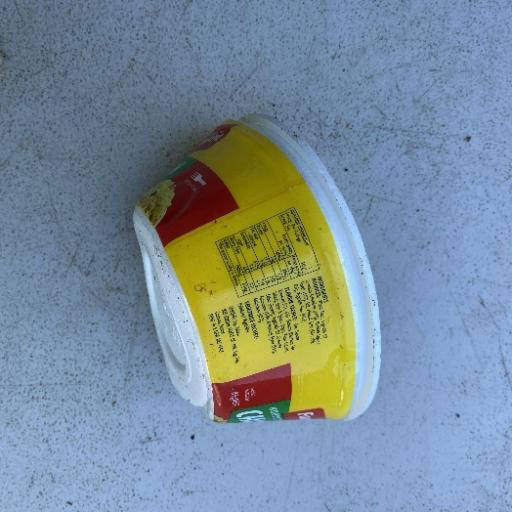Plastic: (130, 111, 383, 425)
